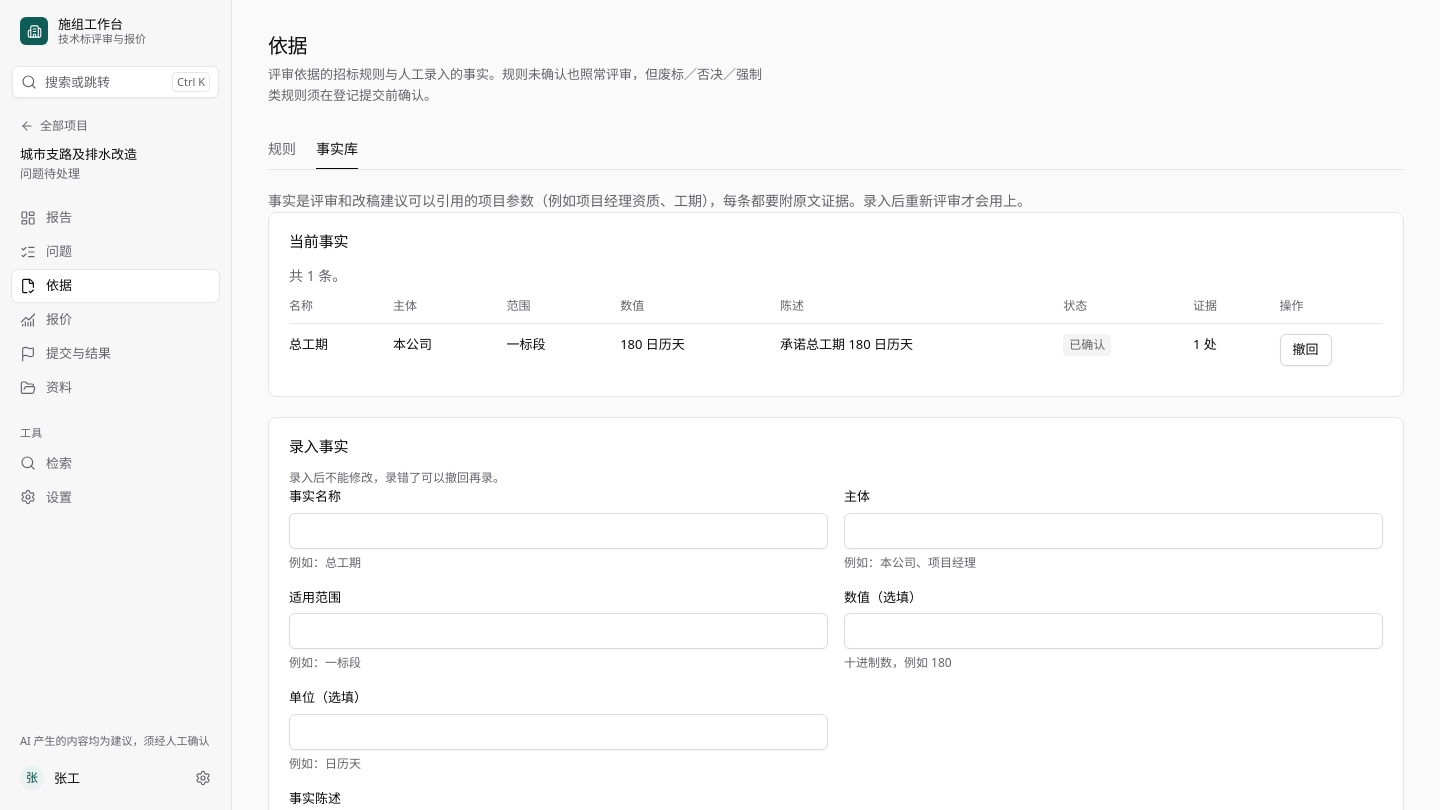
it: 依据页：事实库 › 撤回：填写理由后提交，请求体为 {reason}，成功后刷新列表
Click the button "撤回": (1306, 350) top-left (1280, 334), bottom-right (1332, 366)
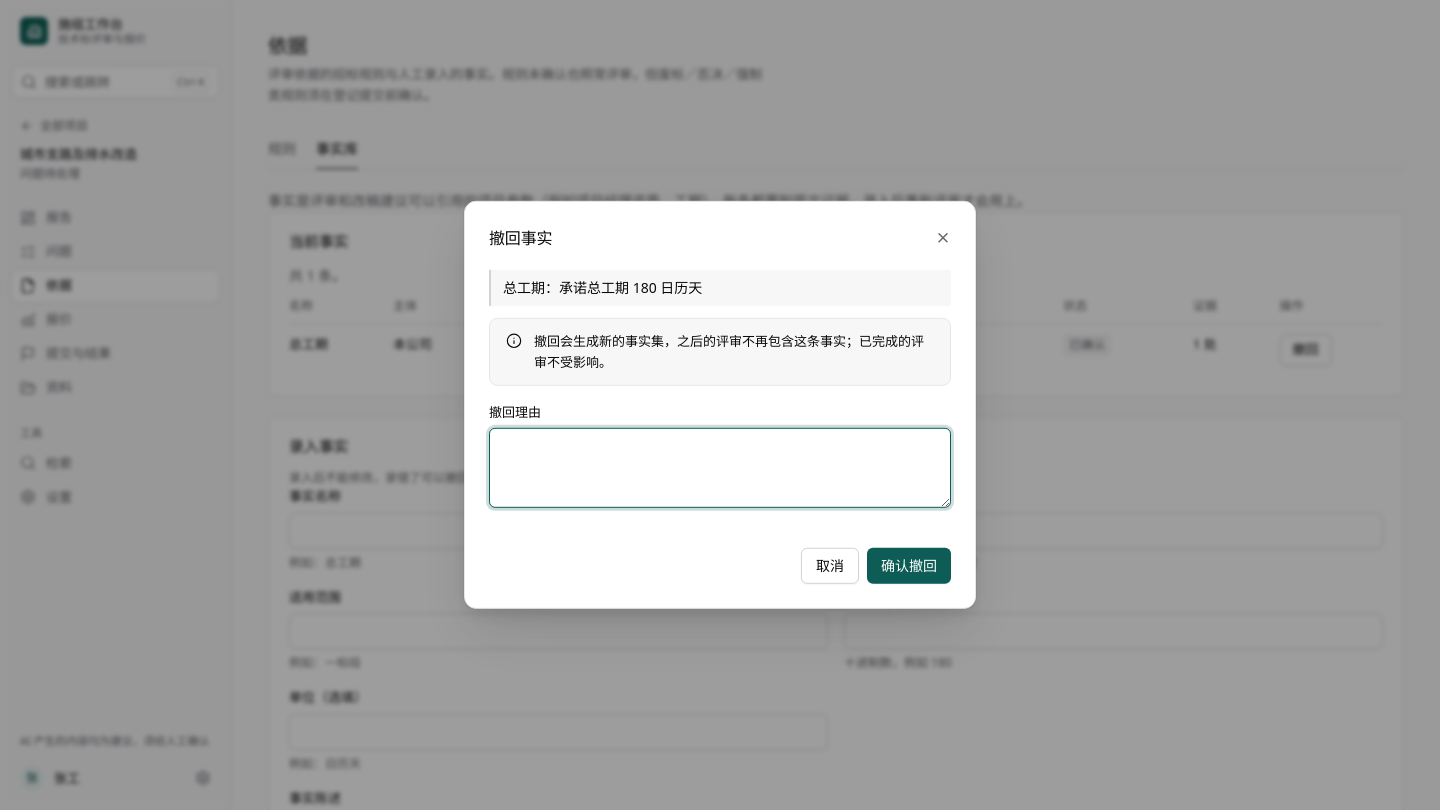
Click the button "确认撤回": (909, 566) top-left (867, 548), bottom-right (951, 584)
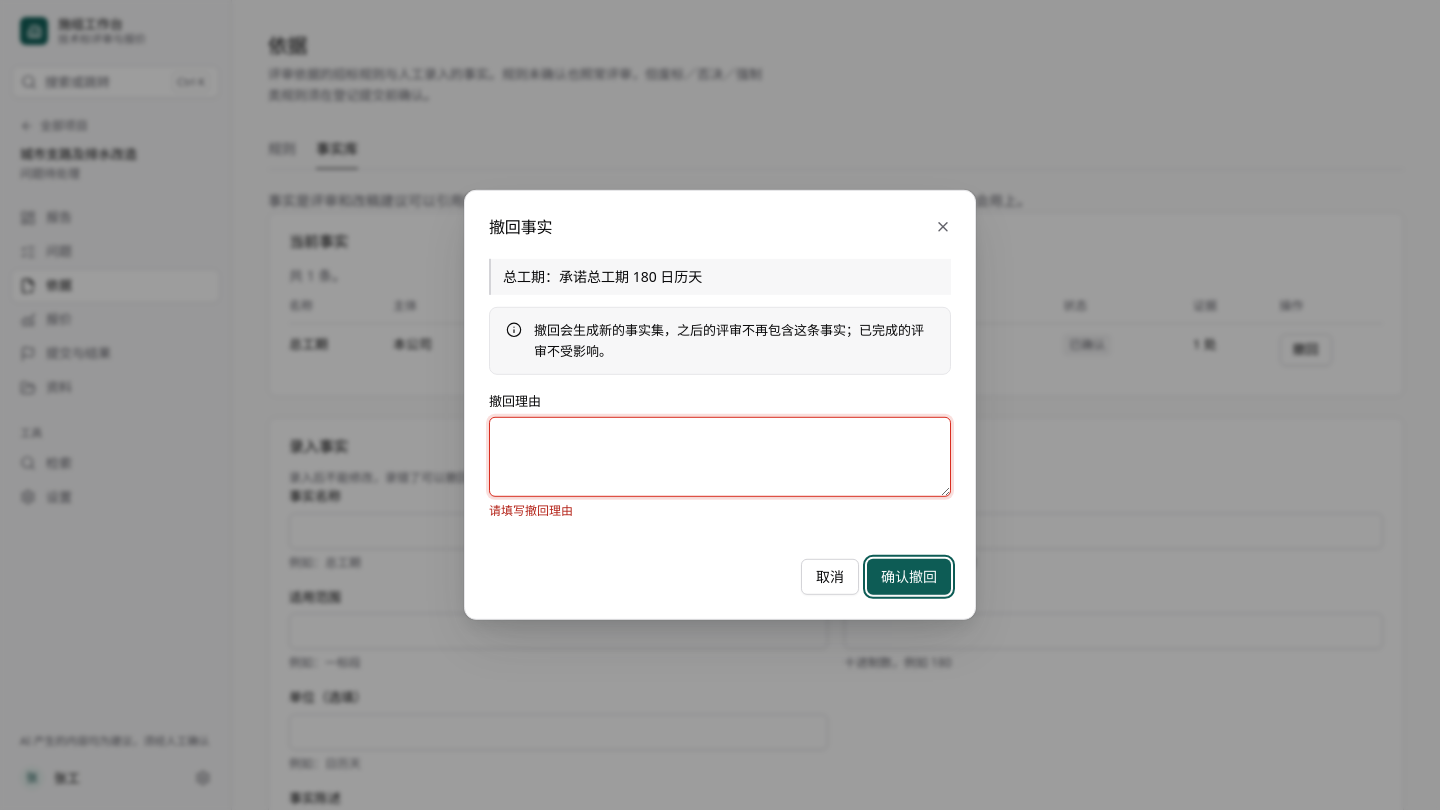
Result: the text "请填写撤回理由" is shown at top-left (489, 502), bottom-right (573, 519)
In the text box labelled "撤回理由": (720, 457) top-left (489, 417), bottom-right (951, 497), type "录入有误"
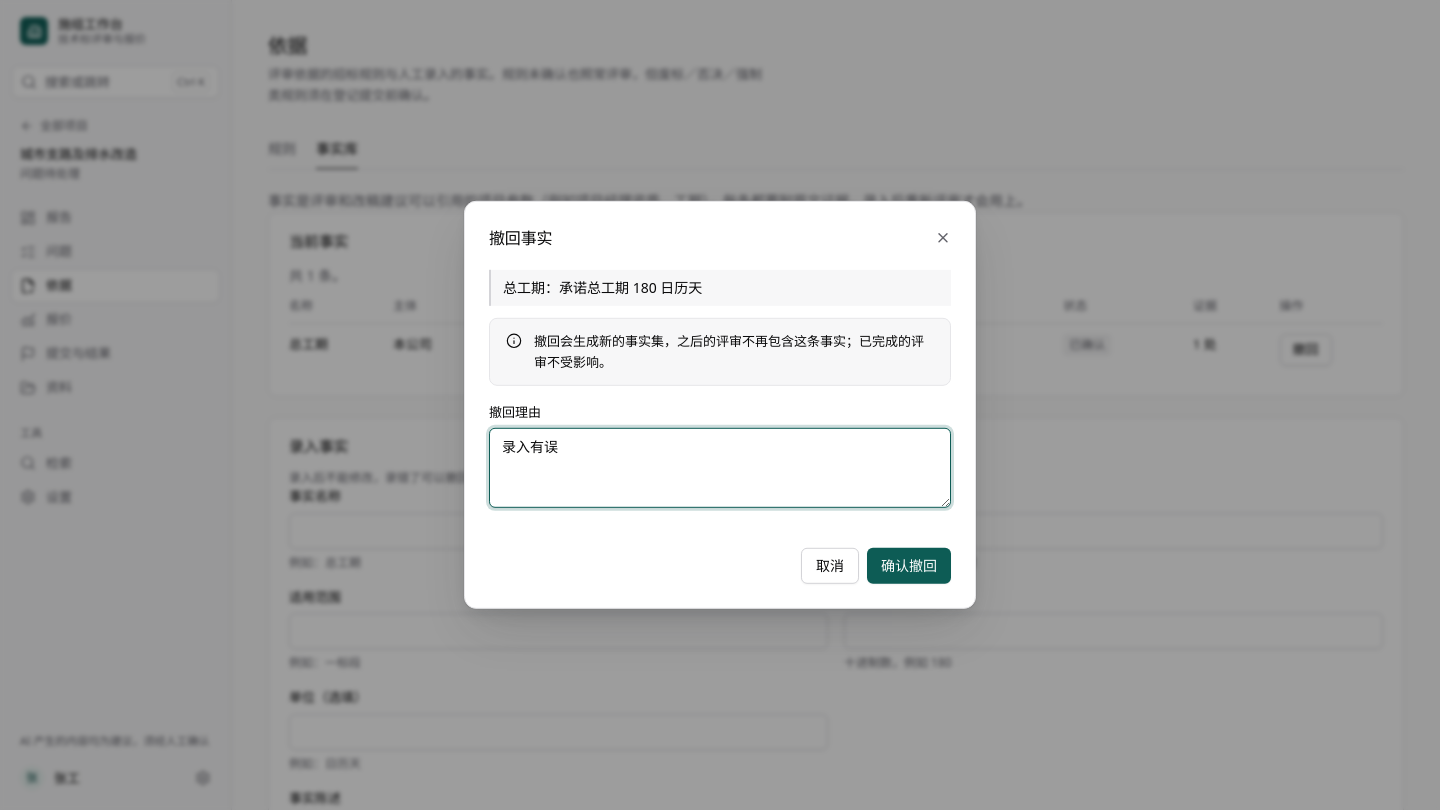
Click the button "确认撤回": (909, 566) top-left (867, 548), bottom-right (951, 584)
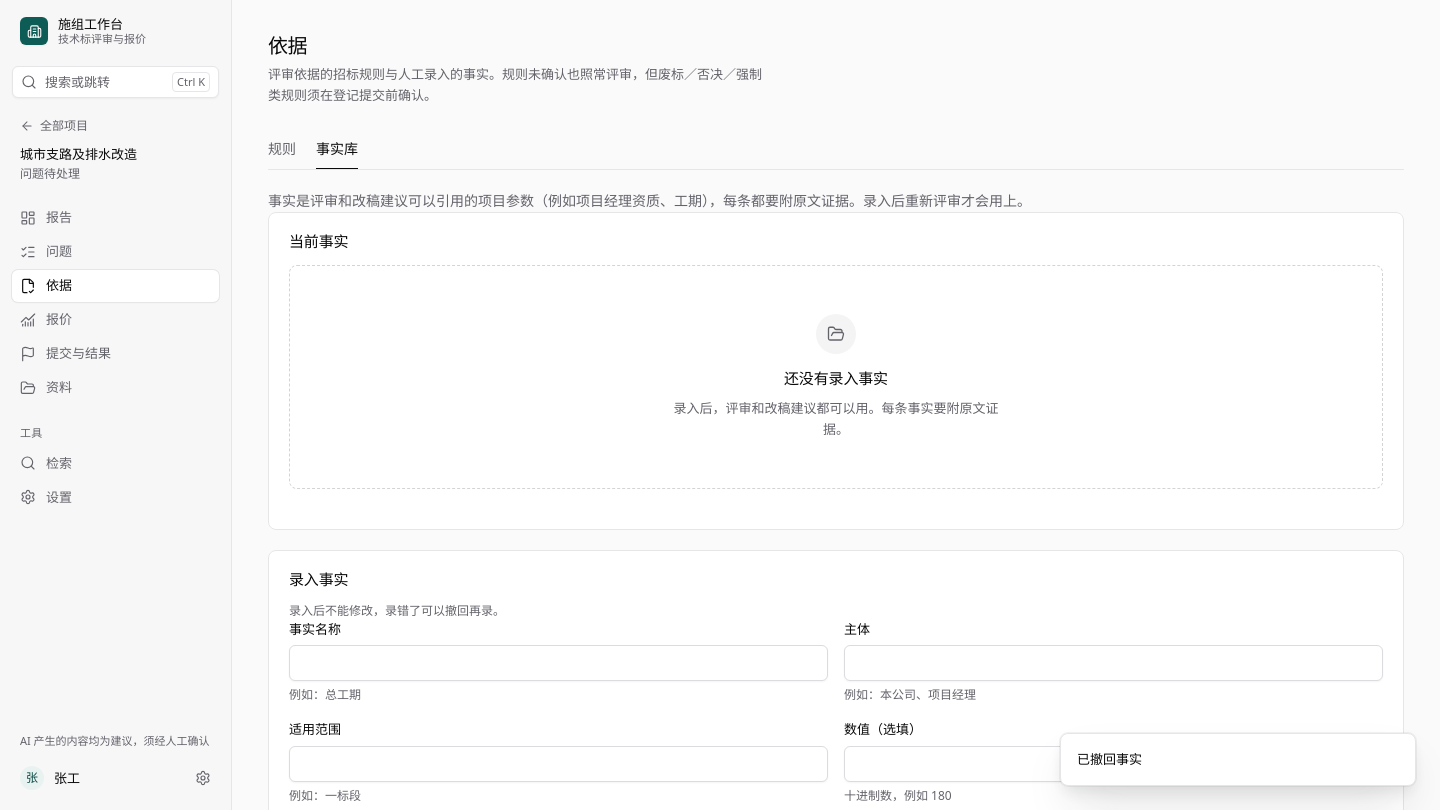
Result: the heading "还没有录入事实" is shown at top-left (784, 366), bottom-right (888, 390)
Result: the dialog is gone
